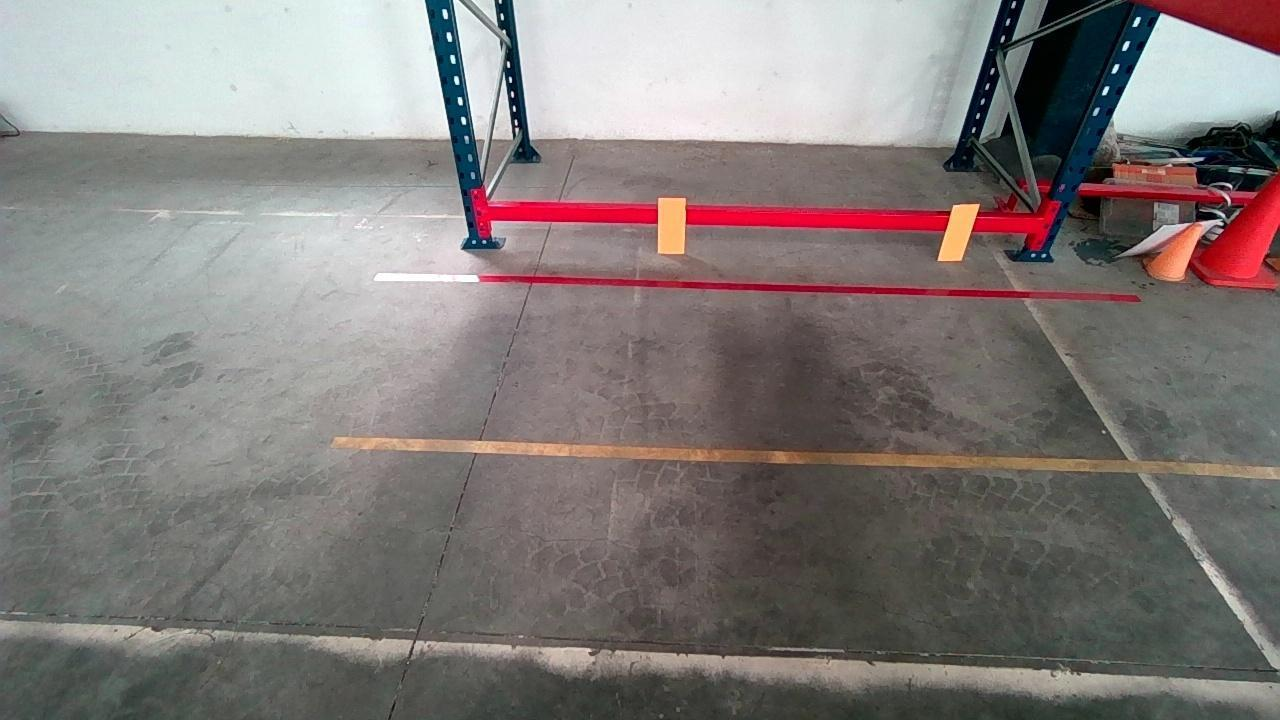h_rack: (490, 204, 1040, 233)
orange_strip: (938, 203, 981, 260), (658, 196, 687, 253)
red_line: (373, 269, 1143, 301)
yellow_line: (332, 432, 1280, 484)
